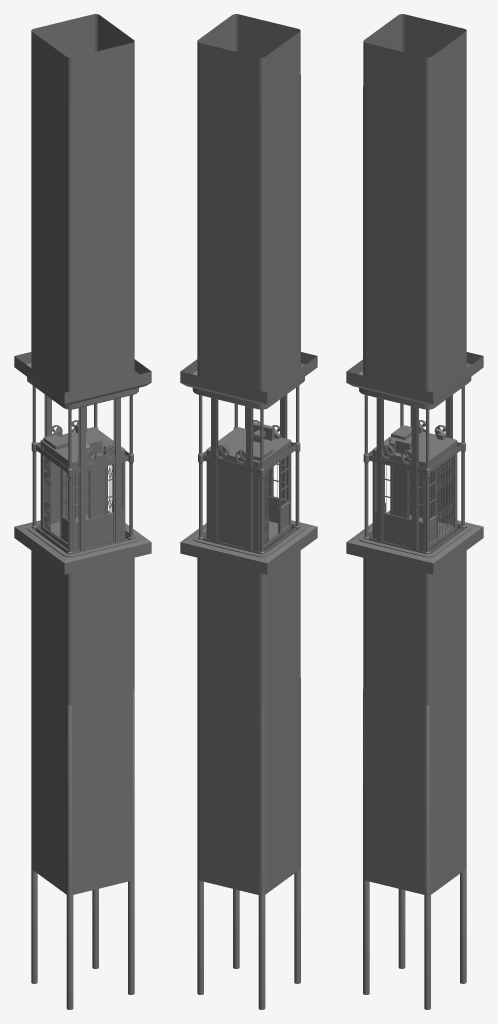
File: tesla_modules1_elevator_01.dae
The picture shows the model from 3 angles, left to right: view 1: azimuth 30°, elevation 25°; view 2: azimuth 150°, elevation 25°; view 3: azimuth 330°, elevation 25°; orthographic projection.
Visible parts, largest first — view 1: tesla_props_elevator; view 2: tesla_props_elevator; view 3: tesla_props_elevator.
Boxes of the visible parts, bbox=[...] form: tesla_props_elevator: bbox=[14, 14, 151, 1009]; tesla_props_elevator: bbox=[180, 14, 317, 1009]; tesla_props_elevator: bbox=[346, 14, 483, 1009].
Size of what is drawn, in the model's own units: 4 by 41.84 by 4.
